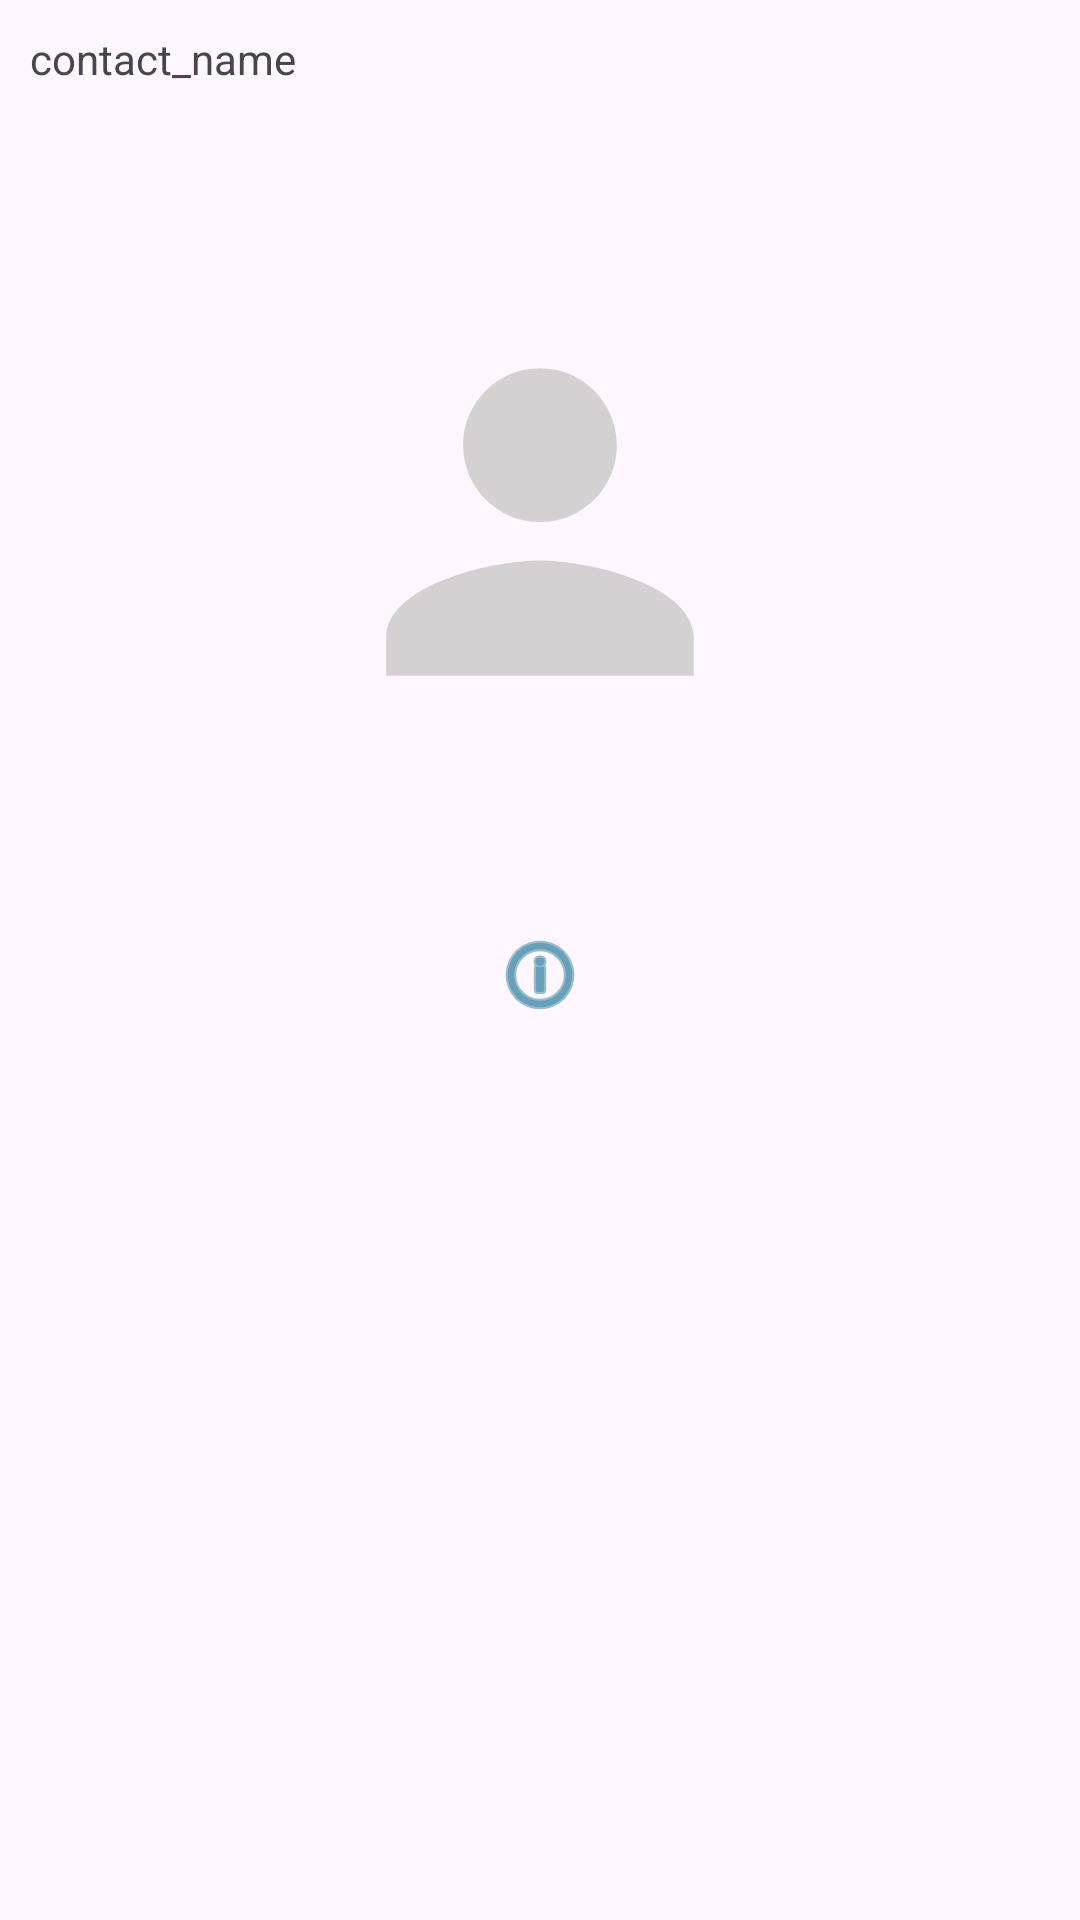

Where icons sit on this 1080×1920 app screen, as (x1, y1, x2, y2):
info details: (505, 940, 575, 1010)
